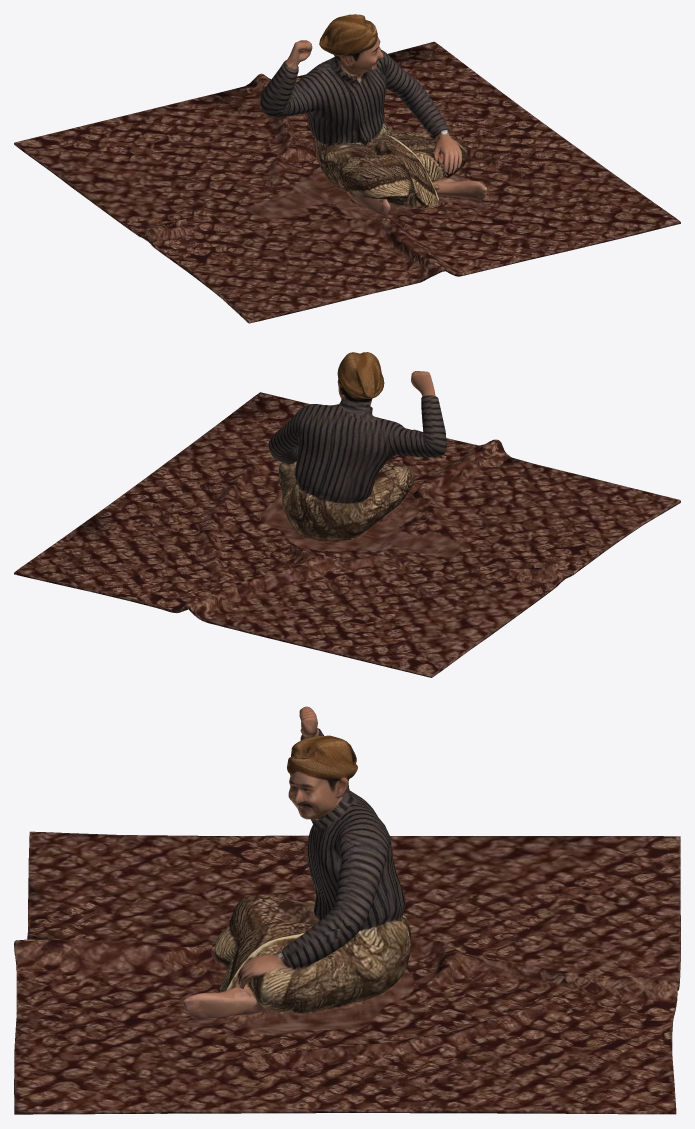
The model's file is bapak duduk.opt.glb.
The picture shows the model from 3 angles, top to bottom: view 1: azimuth 30°, elevation 25°; view 2: azimuth 150°, elevation 25°; view 3: azimuth 270°, elevation 25°; orthographic projection. The views are drawn at different scales.
Visible parts, largest first — view 1: mesh_node; view 2: mesh_node; view 3: mesh_node.
Boxes of the visible parts, x1,y1,x2,y2 form: mesh_node: [14, 14, 680, 323]; mesh_node: [14, 352, 680, 677]; mesh_node: [14, 706, 680, 1114].
Size of the model in its own units: 1.89 by 0.7391 by 1.9.
Materials: 1 (1 with a texture image).
